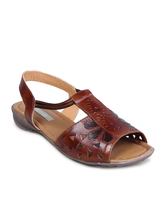shoes: (2, 67, 156, 164)
